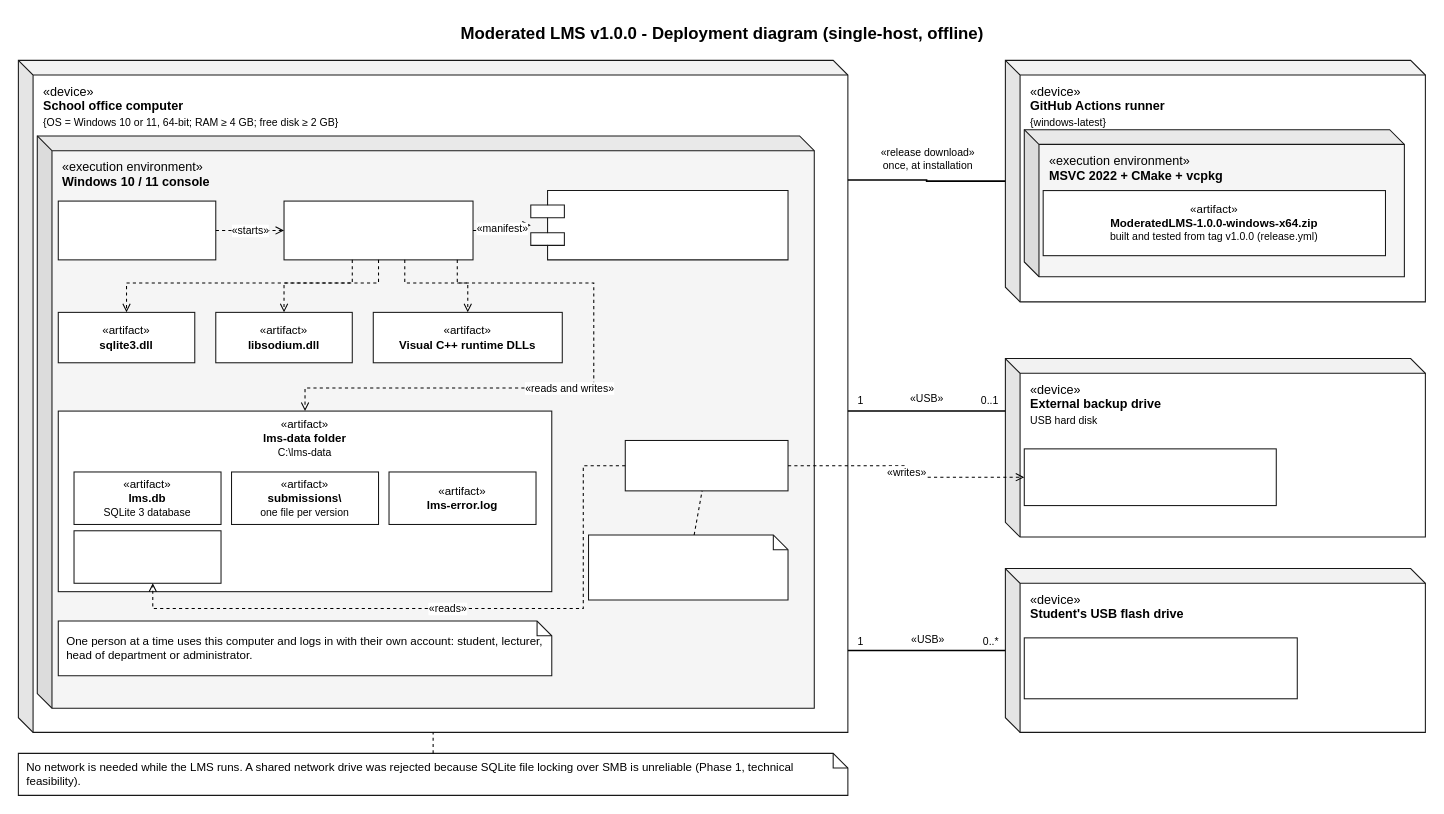
Some shapes in this 1444 by 814 pixel diagram are drawn without their labels. Here are the shapes that lost their labels. From the top down, the centre of each, then its label:
At pixel 136 230: "«artifact» start-lms.bat desktop shortcut".
At pixel 378 230: "«artifact» lms.exe Moderated LMS v1.0.0".
At pixel 659 225: "«component» Moderated LMS all layers of the Phase 3 component diagram".
At pixel 706 465: "«artifact» copy-backups.bat".
At pixel 1149 477: "«artifact» lms-backup-copy\ copies of backups\".
At pixel 147 556: "«artifact» backups\ one copy a day".
At pixel 687 567: "Windows Task Scheduler runs copy-backups.bat every school day at 16:30.".
At pixel 1160 668: "«artifact» assignment file e.g. .docx or .pdf, at most 10 MB".
